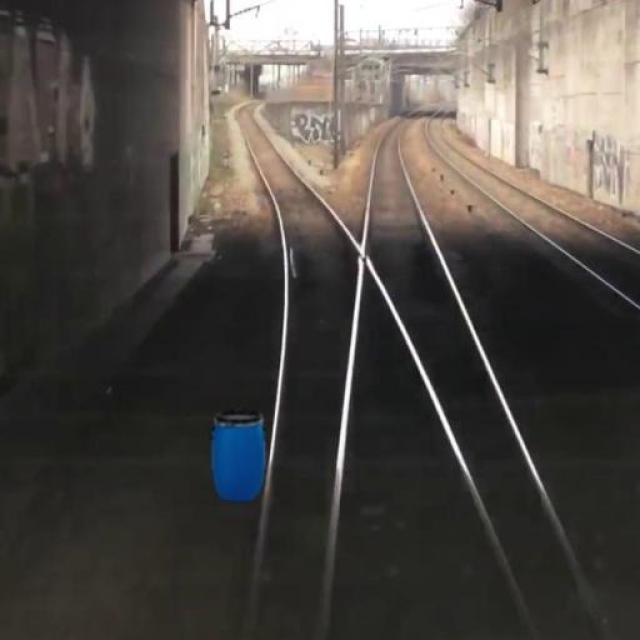Other_objects: (208, 404, 274, 509)
